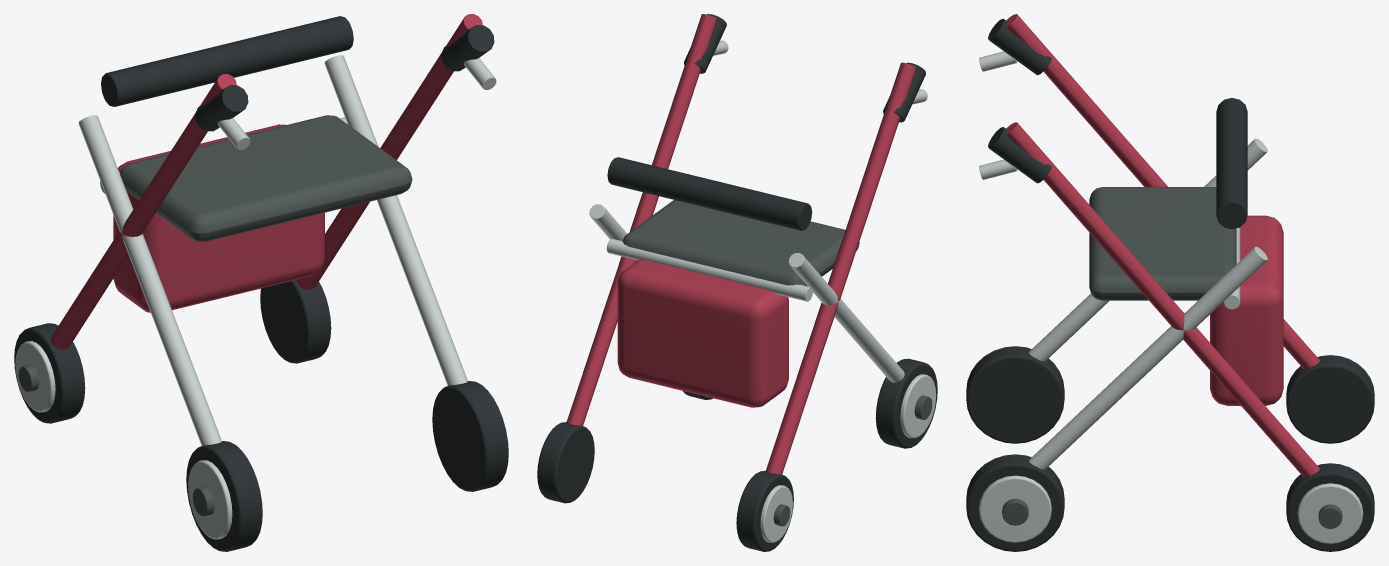
File: rullator.glb
The picture shows the model from 3 angles, left to right: view 1: azimuth 30°, elevation 25°; view 2: azimuth 150°, elevation 25°; view 3: azimuth 270°, elevation 25°; orthographic projection. The views are drawn at different scales.
Visible parts, largest first — view 1: Folding seat, Shopping pouch, Frame tube.009, Frame tube.001, Tyre.002, Frame tube.004, Frame tube, Tyre.003, Frame tube.003, Tyre, Tyre.001, Wheel dish (+3 smaller); view 2: Shopping pouch, Folding seat, Frame tube, Frame tube.009, Frame tube.003, Tyre.003, Frame tube.001, Tyre, Tyre.001, Frame tube.006, Wheel dish, Wheel dish.001 (+3 smaller); view 3: Folding seat, Shopping pouch, Frame tube.003, Tyre, Tyre.001, Frame tube.004, Frame tube, Frame tube.009, Tyre.002, Wheel dish.002, Tyre.003, Wheel dish.003 (+7 smaller).
Part boxes in pixels (left/top/right/bottom): Folding seat: left=120, top=115, right=412, bottom=241; Shopping pouch: left=113, top=124, right=324, bottom=312; Frame tube.009: left=101, top=16, right=353, bottom=106; Frame tube.001: left=78, top=115, right=221, bottom=445; Tyre.002: left=432, top=381, right=508, bottom=491; Frame tube.004: left=324, top=55, right=467, bottom=385; Frame tube: left=50, top=74, right=236, bottom=349; Tyre.003: left=260, top=280, right=331, bottom=363; Frame tube.003: left=296, top=14, right=482, bottom=289; Tyre: left=186, top=441, right=262, bottom=551; Tyre.001: left=14, top=323, right=85, bottom=423; Wheel dish: left=188, top=460, right=232, bottom=539; Shopping pouch: left=617, top=259, right=788, bottom=407; Folding seat: left=622, top=200, right=859, bottom=286; Frame tube: left=766, top=62, right=916, bottom=474; Frame tube.009: left=607, top=157, right=812, bottom=230; Frame tube.003: left=566, top=14, right=717, bottom=425; Tyre.003: left=537, top=422, right=594, bottom=503; Frame tube.001: left=788, top=253, right=904, bottom=382; Tyre: left=875, top=358, right=937, bottom=448; Tyre.001: left=736, top=470, right=793, bottom=551; Frame tube.006: left=606, top=239, right=812, bottom=301; Wheel dish: left=900, top=374, right=936, bottom=438; Wheel dish.001: left=760, top=485, right=792, bottom=542; Folding seat: left=1089, top=187, right=1236, bottom=300; Shopping pouch: left=1210, top=215, right=1283, bottom=405; Frame tube.003: left=1006, top=122, right=1319, bottom=477; Tyre: left=966, top=346, right=1064, bottom=443; Tyre.001: left=1286, top=355, right=1374, bottom=443; Frame tube.004: left=1029, top=246, right=1267, bottom=469; Frame tube: left=1006, top=14, right=1319, bottom=369; Frame tube.009: left=1216, top=98, right=1247, bottom=229; Tyre.002: left=966, top=454, right=1064, bottom=551; Wheel dish.002: left=979, top=475, right=1051, bottom=542; Tyre.003: left=1286, top=463, right=1374, bottom=551; Wheel dish.003: left=1297, top=483, right=1363, bottom=543.
Bounding box in the file's own units: 0.625 × 0.951 × 0.83.
